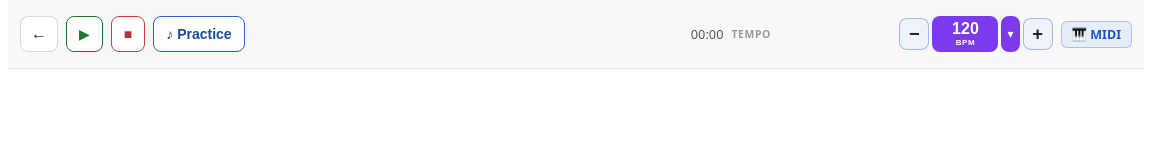
Test: Feature 042 — US2: hold indicator (T022-T024) › T022: hold indicator appears while in holding mode for a note > quarter note
Click the button with aria-label "start practice" at (199, 34), box [153, 16, 245, 52]
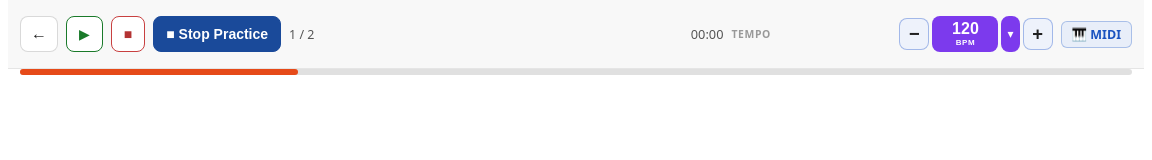
Check: the progress indicator with test id "hold-indicator" is shown, box [20, 69, 1132, 75]
